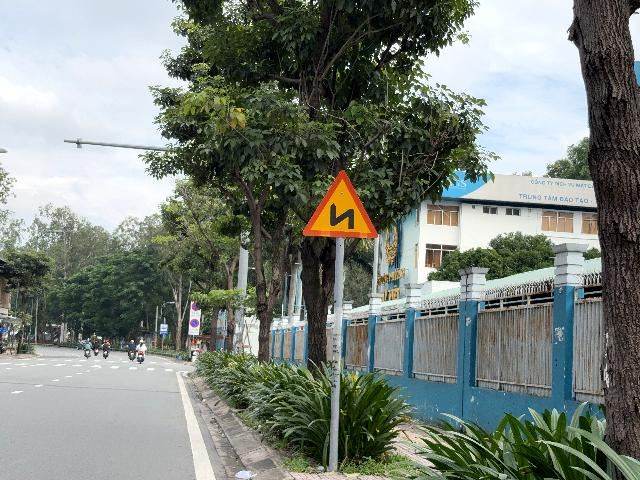nhieu-cho-ngoat-nguy-hiem-lien-tiep: (302, 170, 378, 239)
